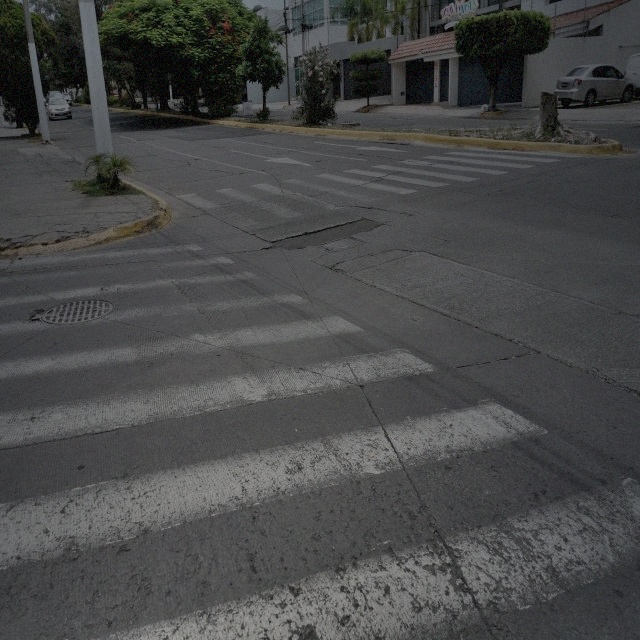pothole: (282, 212, 383, 254), (332, 262, 346, 276)
